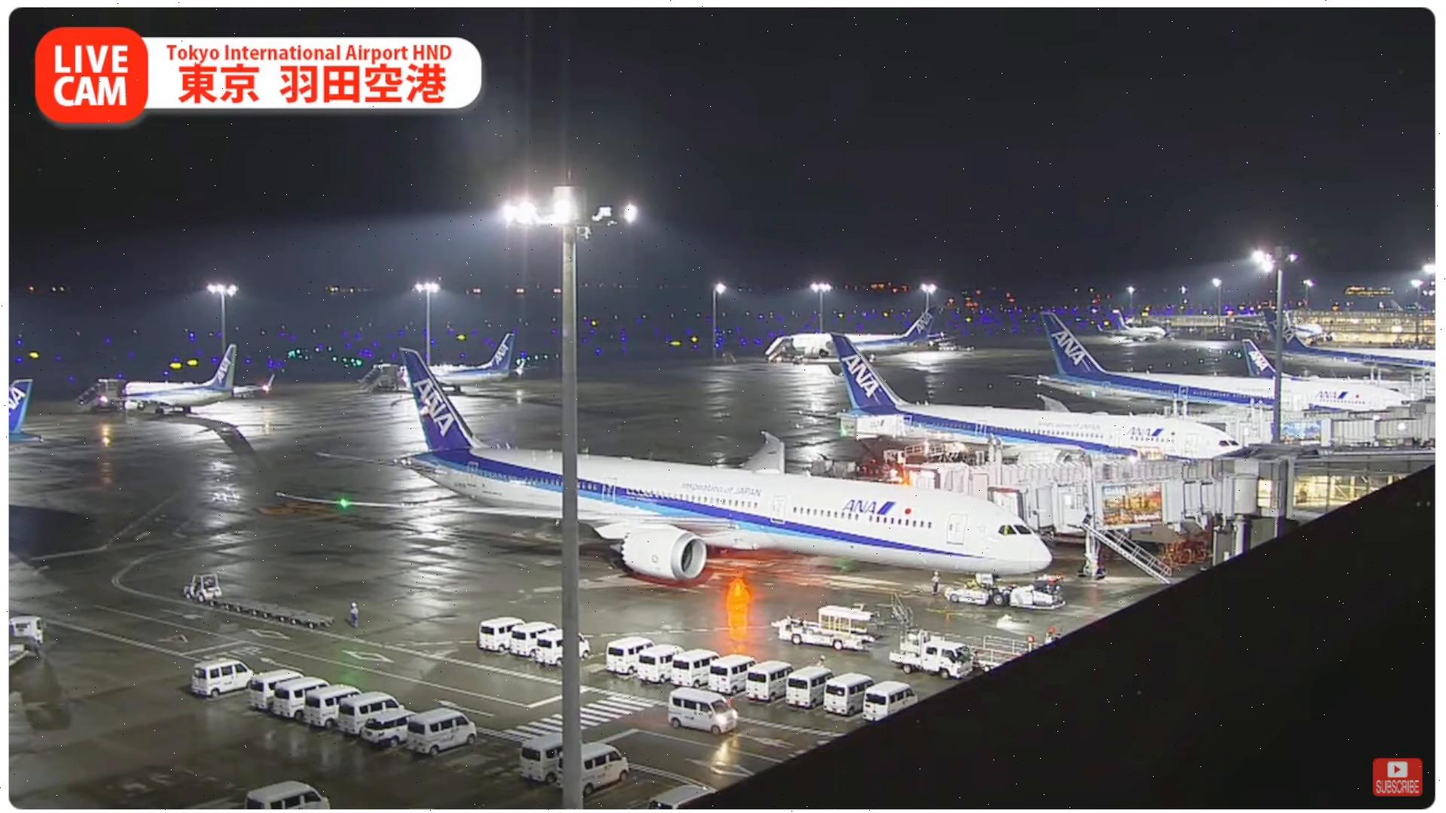Aerobridge: (904, 454, 1290, 516), (978, 469, 1279, 540)
Airplane: (263, 339, 1058, 594)
Dolly: (217, 589, 341, 641)
JCPL: (898, 634, 1015, 675), (950, 628, 1054, 653)
Skyloader: (765, 599, 889, 659)
Tow Tug: (938, 576, 1075, 618)
Tractor: (176, 570, 228, 611)
Window: (1291, 459, 1429, 518)
